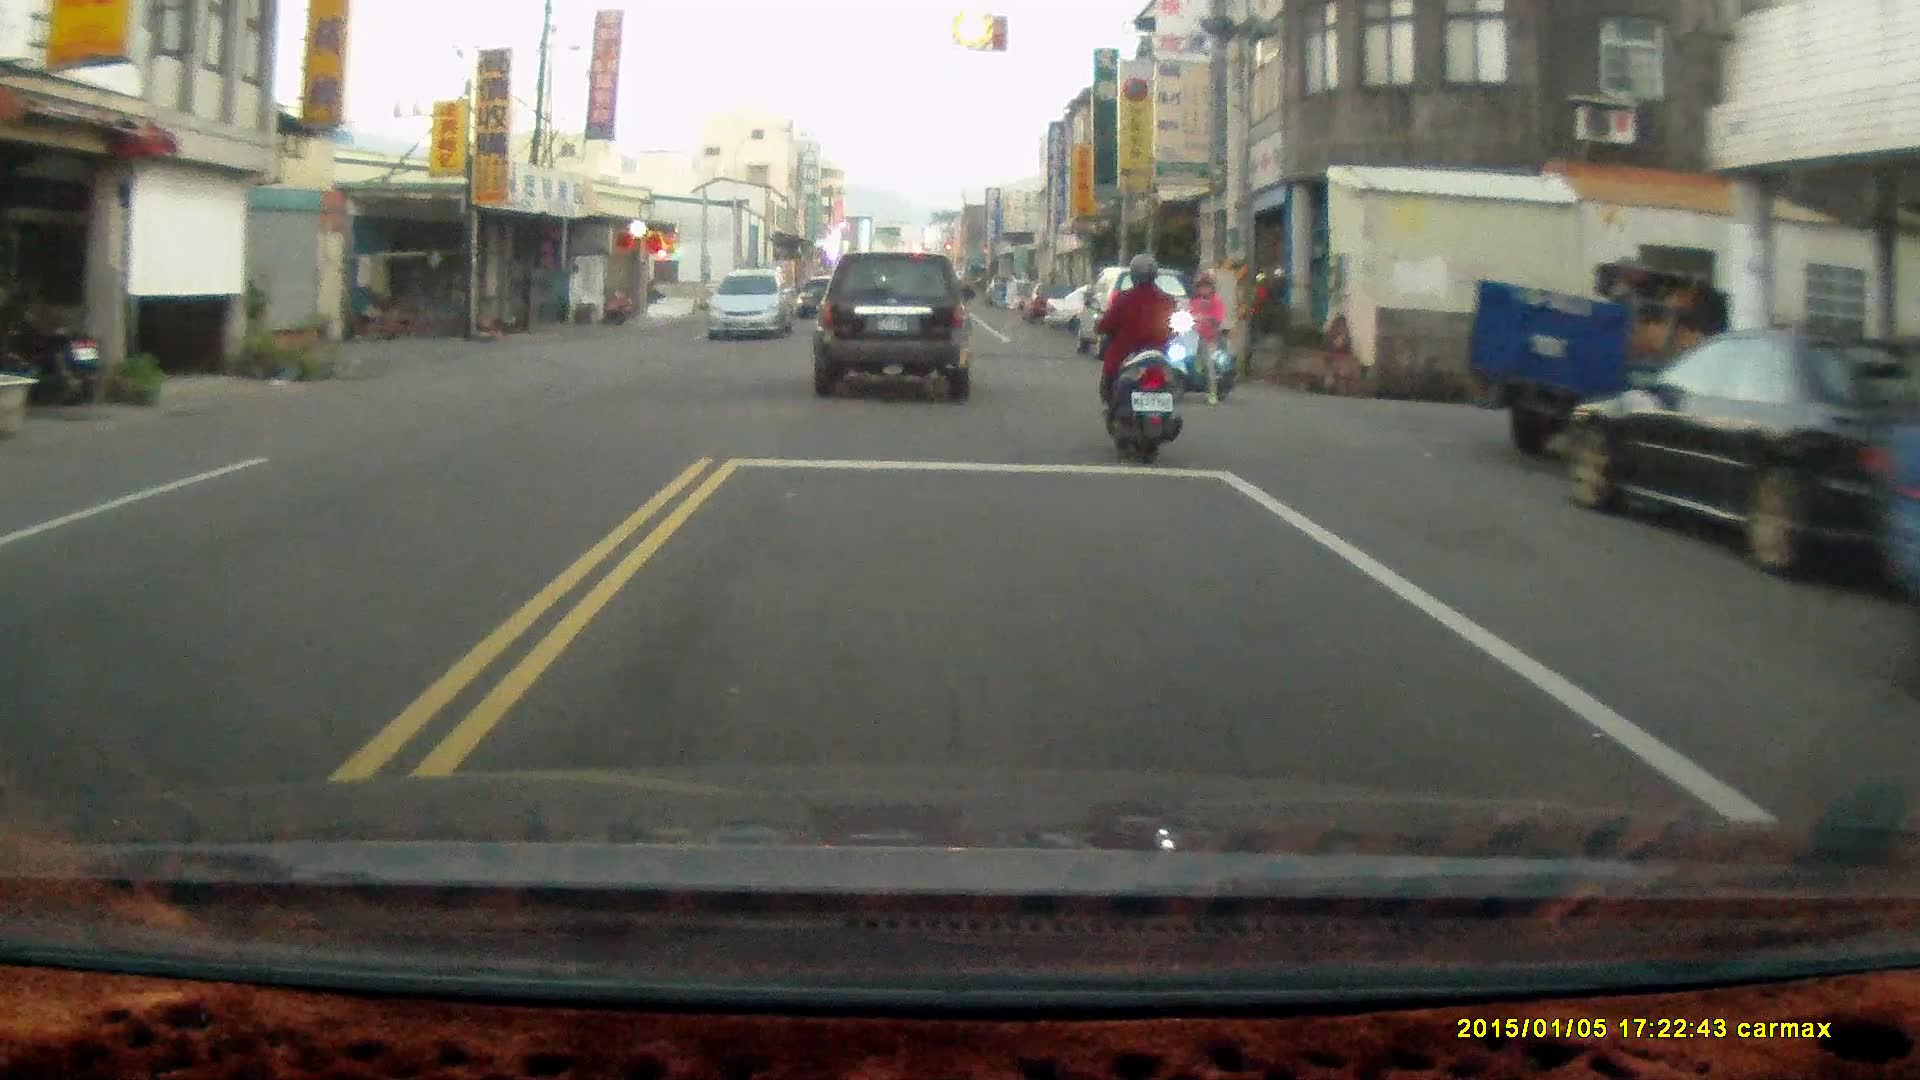rider: (1097, 246, 1179, 469), (1162, 276, 1242, 395)
vehicle: (1565, 325, 1920, 584), (1469, 265, 1752, 470), (810, 248, 981, 404), (1080, 268, 1201, 360), (708, 268, 798, 343)
